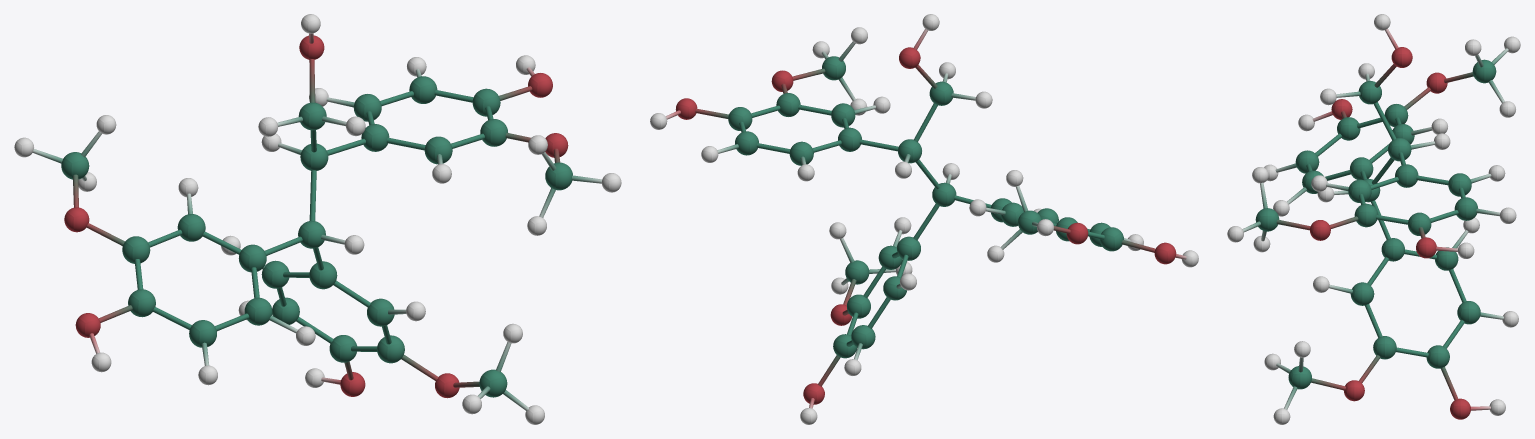
Rendered from Quebecol.fbx.
3 renders of one model, left to right at view 1: azimuth 30°, elevation 25°; view 2: azimuth 150°, elevation 25°; view 3: azimuth 270°, elevation 25°, orthographic. The views are drawn at different scales.
Parts seen in each view (by area): view 1: curMeshHyperballExportedMesh; view 2: curMeshHyperballExportedMesh; view 3: curMeshHyperballExportedMesh.
Boxes of the visible parts, x1=… form: curMeshHyperballExportedMesh: x1=14, y1=14, x2=621, y2=424; curMeshHyperballExportedMesh: x1=650, y1=14, x2=1198, y2=424; curMeshHyperballExportedMesh: x1=1227, y1=14, x2=1520, y2=424.
Size of the model in its own units: 12.51 by 9.81 by 7.04.
